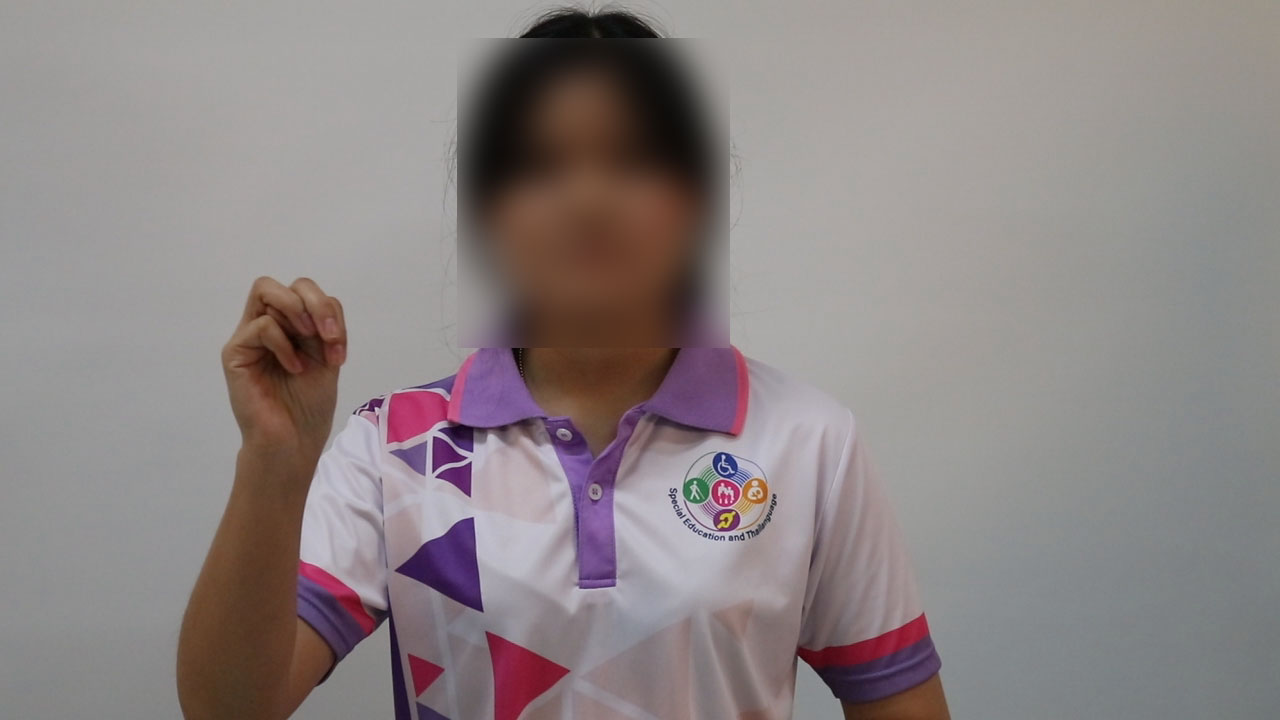mor: (212, 255, 367, 481)
